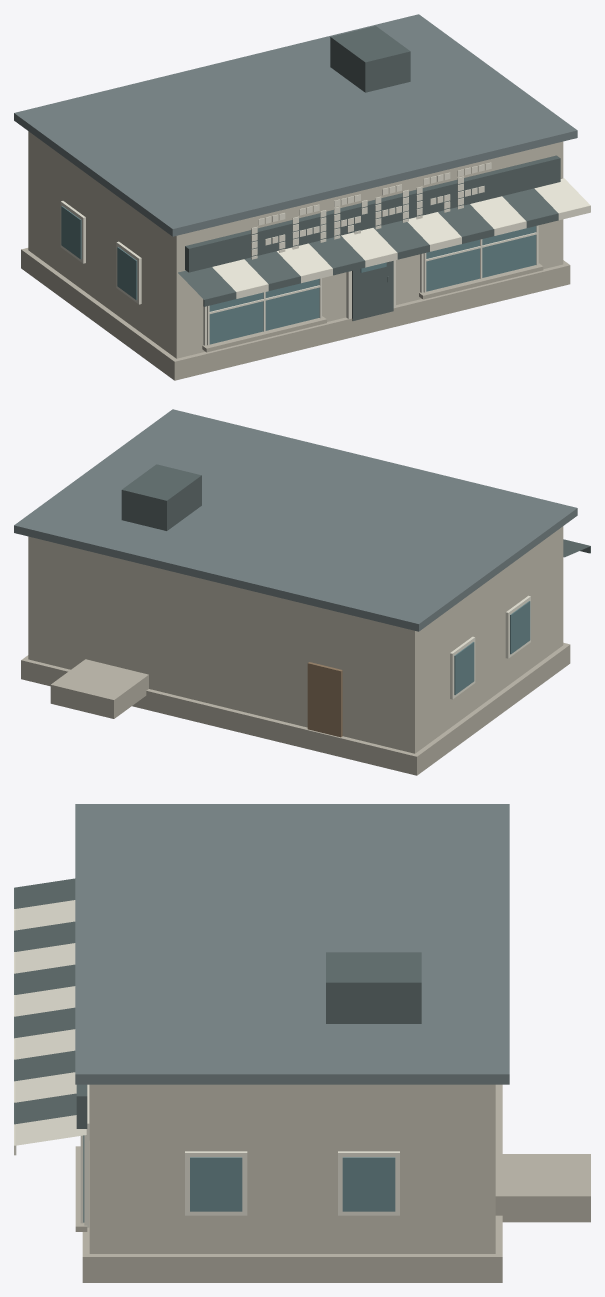
The picture shows the model from 3 angles, top to bottom: view 1: azimuth 30°, elevation 25°; view 2: azimuth 150°, elevation 25°; view 3: azimuth 270°, elevation 25°; orthographic projection. The views are drawn at different scales.
Size of the model in its own units: 13.4 by 5.85 by 12.09.
